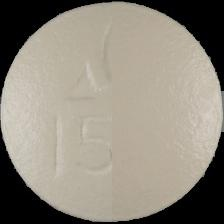50090-0972: (0, 0, 224, 224)
